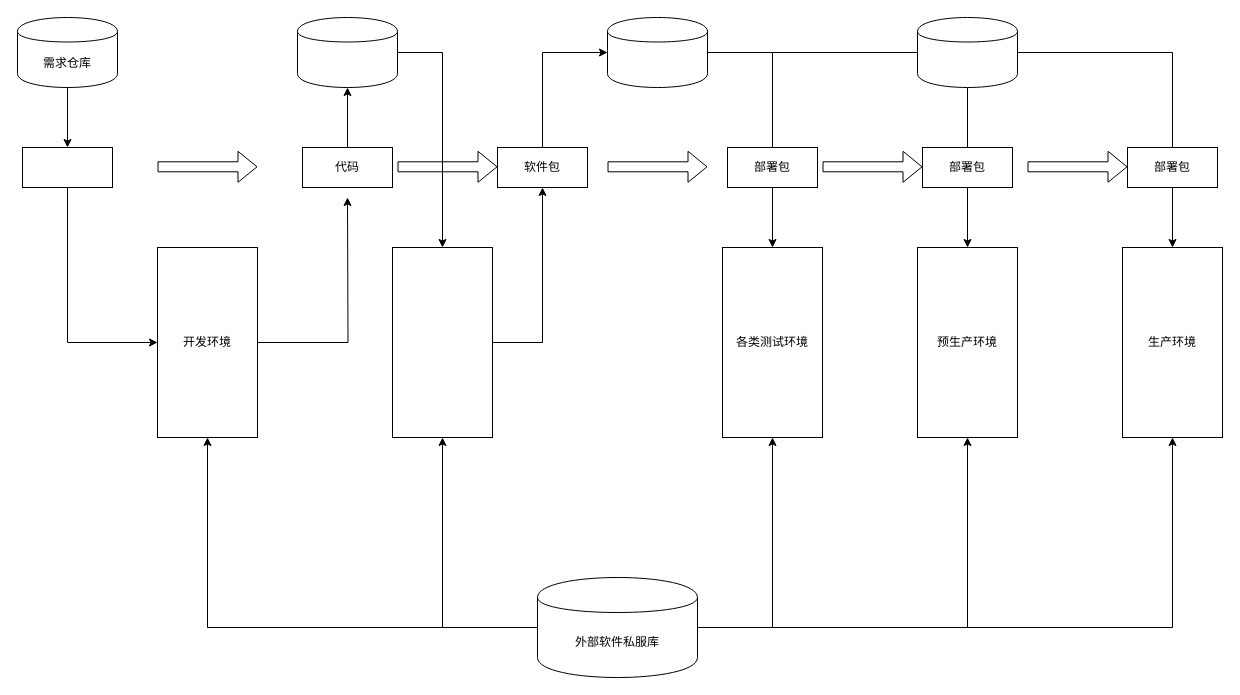
Some shapes in this 1240 by 695 pixel diagram are drawn without their labels. The centre of each missing label's shape, as x and y in pixels:
临时产物仓库: (657,52)
代码仓库: (347,52)
构建环境: (442,342)
正式包仓库: (967,52)
需求: (67,167)
